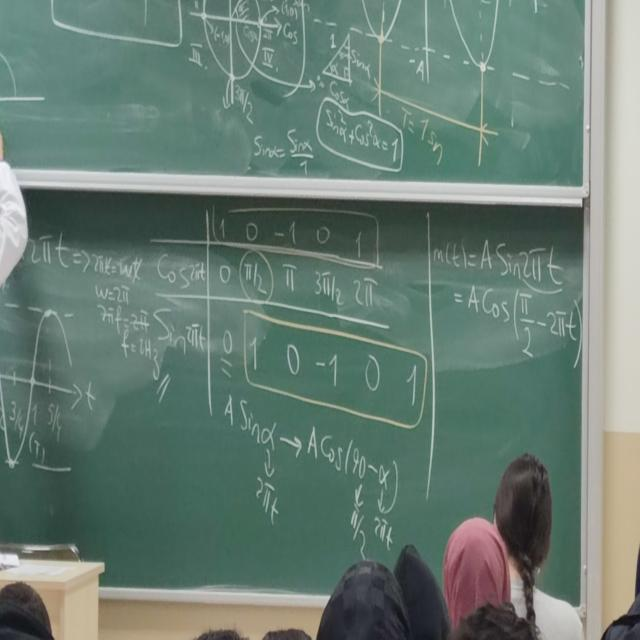image: (324, 0, 514, 91), (179, 0, 317, 107), (0, 303, 84, 476)
math: (209, 199, 387, 324), (426, 228, 581, 365), (24, 227, 152, 367), (305, 419, 396, 557), (223, 394, 284, 534), (318, 82, 404, 167), (148, 297, 212, 358), (248, 124, 315, 173), (153, 246, 210, 294)
